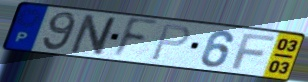6: (199, 29, 235, 69)
9: (40, 11, 79, 52)
F: (109, 16, 161, 61), (230, 32, 278, 71)
N: (67, 13, 122, 58)
P: (149, 23, 193, 62)
